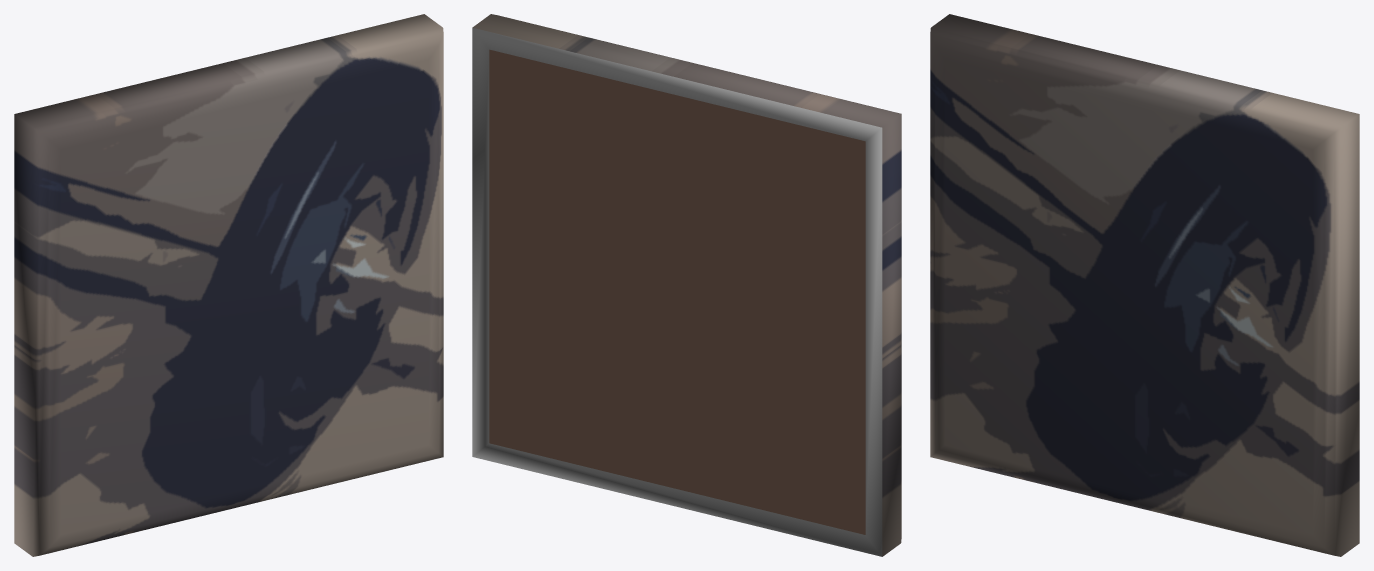
Rendered from painting-small.glb.
3 views of the same model, side by side, from view 1: azimuth 30°, elevation 25°; view 2: azimuth 150°, elevation 25°; view 3: azimuth 330°, elevation 25° (orthographic).
Parts seen in each view (by area): view 1: Painting_Small; view 2: Painting_Small; view 3: Painting_Small.
Part boxes in pixels (x1,y1,x2,y2): Painting_Small: [14, 14, 443, 556]; Painting_Small: [472, 14, 901, 556]; Painting_Small: [930, 14, 1359, 556].
Size of the model in its own units: 40.77 by 40.77 by 4.39.
Materials: 2 (2 with a texture image).
